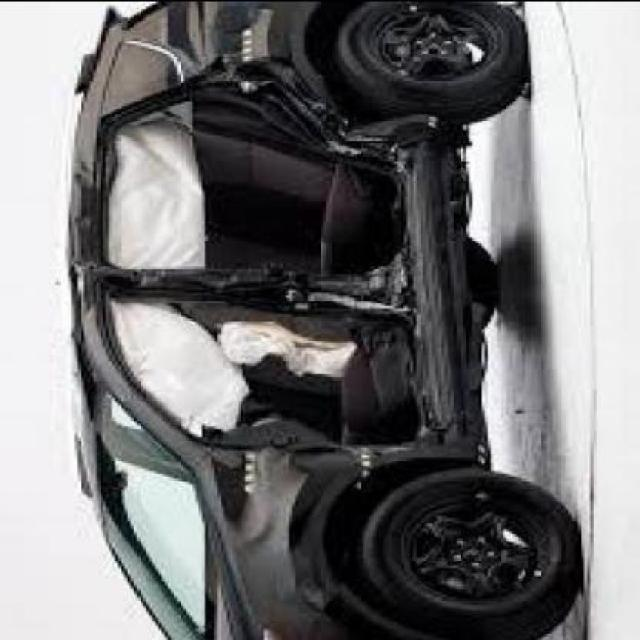damage: (66, 10, 481, 550)
